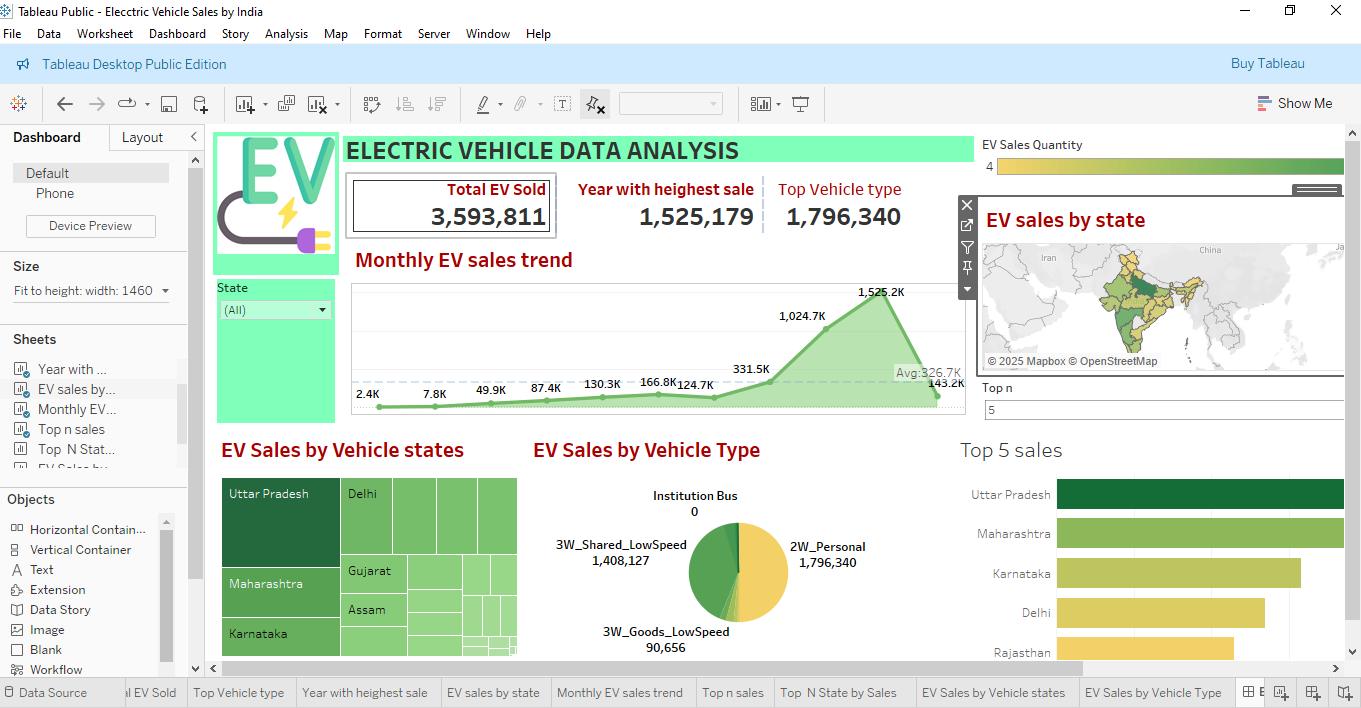

The dashboard page shown, as its layout file describes it:
{"tool":"tableau","page":{"name":"EV Dashboard","canvas":[1000,1000],"units":"permille","ordinal":0},"visuals":[{"type":"image","param":"Image/EV Logo 3.png","box":[5.5,14.3,86.3,255.3]},{"type":"title","box":[91.8,14.3,437.7,60.2]},{"type":"legend","title":"EV sales by state","param":"[federated.00n9lrx085p9ne1fkc8ak0aj7iu8].[sum:EV_Sales_Quantity:qk]","box":[529.5,14.3,465.1,116.1]},{"type":"worksheet","title":"Total EV Sold","mark":"Automatic","box":[97.3,88.8,142.2,112.5]},{"type":"worksheet","title":"Year with heighest sale","mark":"Automatic","box":[239.5,88.8,142.2,112.5]},{"type":"worksheet","title":"Top Vehicle type","mark":"Automatic","box":[381.7,88.8,142.2,112.5]},{"type":"worksheet","title":"EV sales by state","mark":"Automatic","box":[529.5,130.4,465.1,317.8]},{"type":"worksheet","title":"Monthly EV sales trend","mark":"Area","rows":["EV_Sales_Quantity","EV_Sales_Quantity"],"cols":["Date"],"box":[97.3,201.3,426.7,325.4]},{"type":"filter","title":"EV Sales by Vehicle states","param":"[federated.00n9lrx085p9ne1fkc8ak0aj7iu8].[none:State:nk]","box":[5.5,269.6,86.3,271.4]},{"type":"parameter","param":"[Parameters].[Parameter 1]","box":[529.5,448.2,465.1,92.9]},{"type":"worksheet","title":"EV Sales by Vehicle states","mark":"Automatic","box":[5.5,541,213.7,444.7]},{"type":"worksheet","title":"EV Sales by Vehicle Type","mark":"Pie","box":[219.2,541,292.5,444.7]},{"type":"worksheet","title":"Top n sales","mark":"Automatic","rows":["State"],"cols":["EV_Sales_Quantity"],"box":[511.6,541,482.9,444.7]}]}

Visuals, with their boxes on the dashboard's canvas, which has no fixed pixel size, in thousandths of its width and height (x1, y1, x2, y2). These are canvas units, not pixel positions in the 1361x708 screenshot, which may show the page scaled, cropped or inside an application window:
image: left=6, top=14, right=92, bottom=270
title: left=92, top=14, right=530, bottom=74
"EV sales by state" legend: left=530, top=14, right=995, bottom=130
"Total EV Sold" worksheet: left=97, top=89, right=240, bottom=201
"Year with heighest sale" worksheet: left=240, top=89, right=382, bottom=201
"Top Vehicle type" worksheet: left=382, top=89, right=524, bottom=201
"EV sales by state" worksheet: left=530, top=130, right=995, bottom=448
"Monthly EV sales trend" worksheet (Area marks): left=97, top=201, right=524, bottom=527
"EV Sales by Vehicle states" filter: left=6, top=270, right=92, bottom=541
parameter: left=530, top=448, right=995, bottom=541
"EV Sales by Vehicle states" worksheet: left=6, top=541, right=219, bottom=986
"EV Sales by Vehicle Type" worksheet (Pie marks): left=219, top=541, right=512, bottom=986
"Top n sales" worksheet: left=512, top=541, right=994, bottom=986
